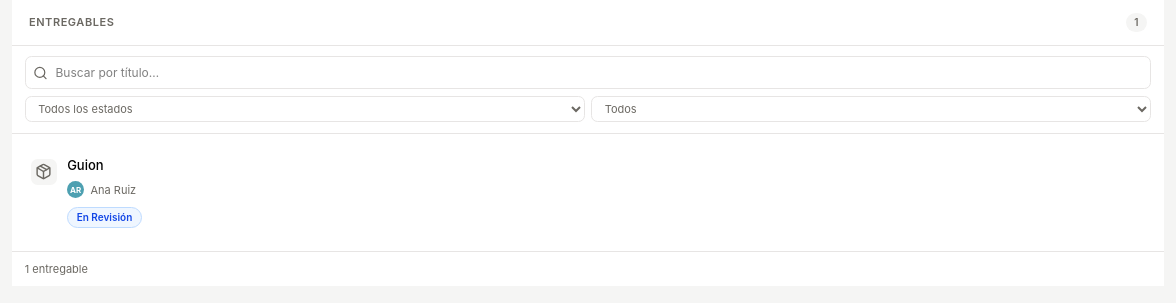
Test: DeliverableList — filtro y paginación › muestra un vacío distinto cuando el filtro no encuentra nada
This screenshot has width=1176, height=303.
In the field with placeholder "Buscar por título…": (588, 73) [25,56,1151,89], type "zzz"
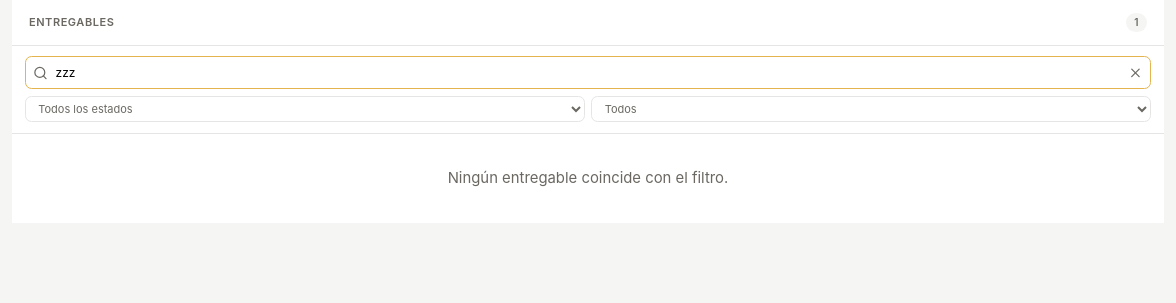
Check: the text "Ningún entregable coincide con el filtro." is shown, box [448,169,728,187]
